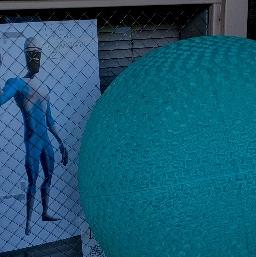algae: (76, 32, 256, 257)
